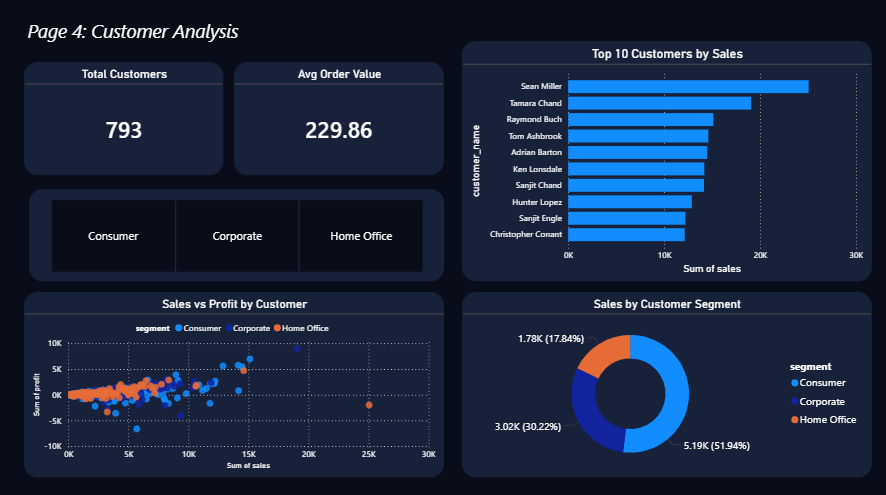

The page's visual inventory and layout, read from the dashboard file:
{"tool":"powerbi","page":{"name":"Customer Analysis","canvas":[1280,720],"ordinal":3},"visuals":[{"type":"clusteredBarChart","title":"Top 10 Customers by Sales","fields":{"Category":["public vw_sales_summary.customer_name"],"Y":["Sum(public vw_sales_summary.sales)"]},"box":[665.2,63.8,589.6,346],"z":0},{"type":"scatterChart","title":"Sales vs Profit by Customer","fields":{"X":["Sum(public vw_sales_summary.sales)"],"Y":["Sum(public vw_sales_summary.profit)"],"Series":["public vw_sales_summary.segment"],"Category":["public vw_sales_summary.customer_name"]},"box":[35.3,425,604.7,267.1],"z":1},{"type":"donutChart","title":"Sales by Customer Segment","fields":{"Category":["public vw_sales_summary.segment"],"Y":["CountNonNull(public vw_sales_summary.state)"]},"box":[665.2,425,589.6,267.1],"z":2},{"type":"cardVisual","title":"Total Customers","fields":{"Data":["Count(public vw_sales_summary.customer_name)"]},"box":[35.3,94.1,287.2,162.9],"z":3},{"type":"cardVisual","title":"Avg Order Value","fields":{"Data":["Avg(public vw_sales_summary.sales)"]},"box":[337.6,94.1,302.4,162.9],"z":4},{"type":"slicer","fields":{"Values":["public vw_sales_summary.segment"]},"box":[42,277.2,598,132.7],"z":5},{"type":"textbox","box":[35.3,25.2,347.7,50.4],"z":6}]}

Visuals, with their boxes in screenshot pixels (x1, y1, x2, y2), scaled from the page's 1280x720 canvas onto the 886x495 screenshot:
"Top 10 Customers by Sales" clusteredBarChart: [left=460, top=44, right=869, bottom=282]
"Sales vs Profit by Customer" scatterChart: [left=24, top=292, right=443, bottom=476]
"Sales by Customer Segment" donutChart: [left=460, top=292, right=869, bottom=476]
"Total Customers" cardVisual: [left=24, top=65, right=223, bottom=177]
"Avg Order Value" cardVisual: [left=234, top=65, right=443, bottom=177]
slicer - public vw_sales_summary.segment: [left=29, top=191, right=443, bottom=282]
textbox: [left=24, top=17, right=265, bottom=52]
